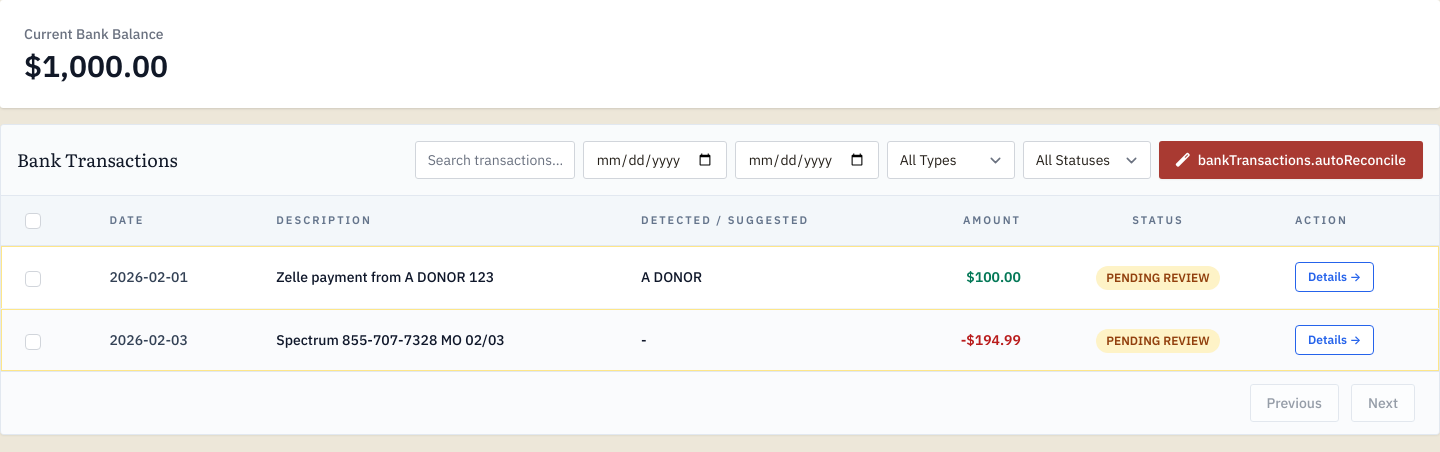
Test: Bulk selection depends on which way the money went › offers the member link for a deposit-only selection
Expected: the text "Zelle payment from A DONOR 123" is shown, [276,268,494,286]
Click the checkbox next to "2026-02-01": (33, 279) [25,271,41,287]
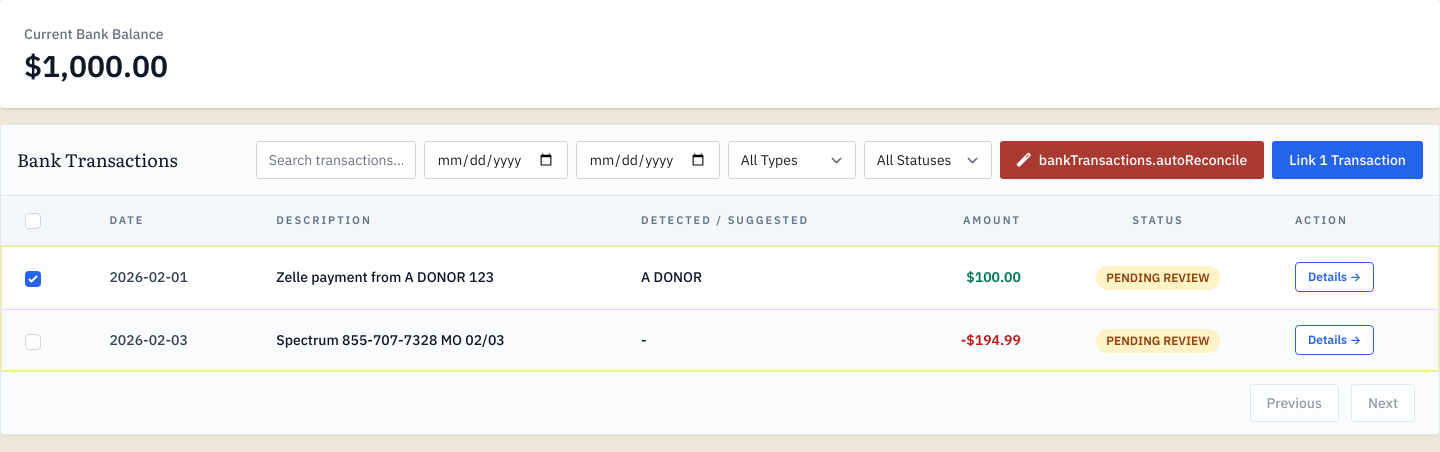
Now the button "Link 1 Transaction" is shown, box [1272,141,1423,179]
